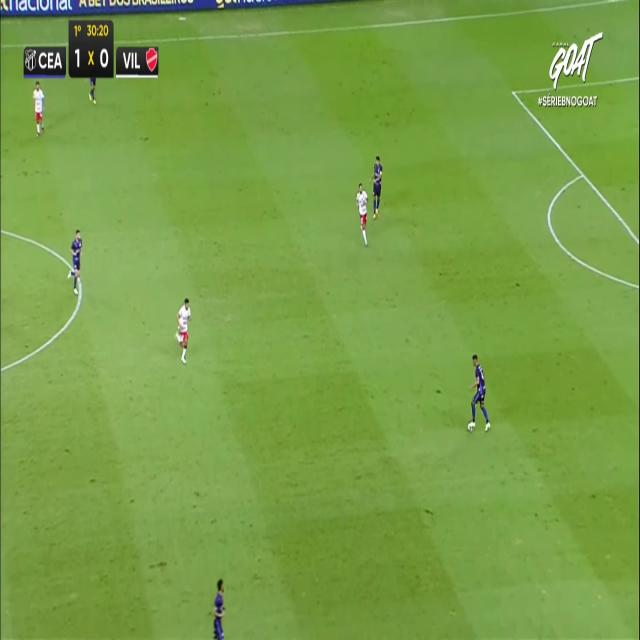ball: (469, 418, 477, 433)
player: (467, 353, 491, 432), (175, 297, 191, 363), (68, 229, 82, 295), (369, 155, 383, 220), (356, 182, 369, 246), (213, 578, 226, 638), (32, 80, 44, 136), (85, 74, 100, 107)
